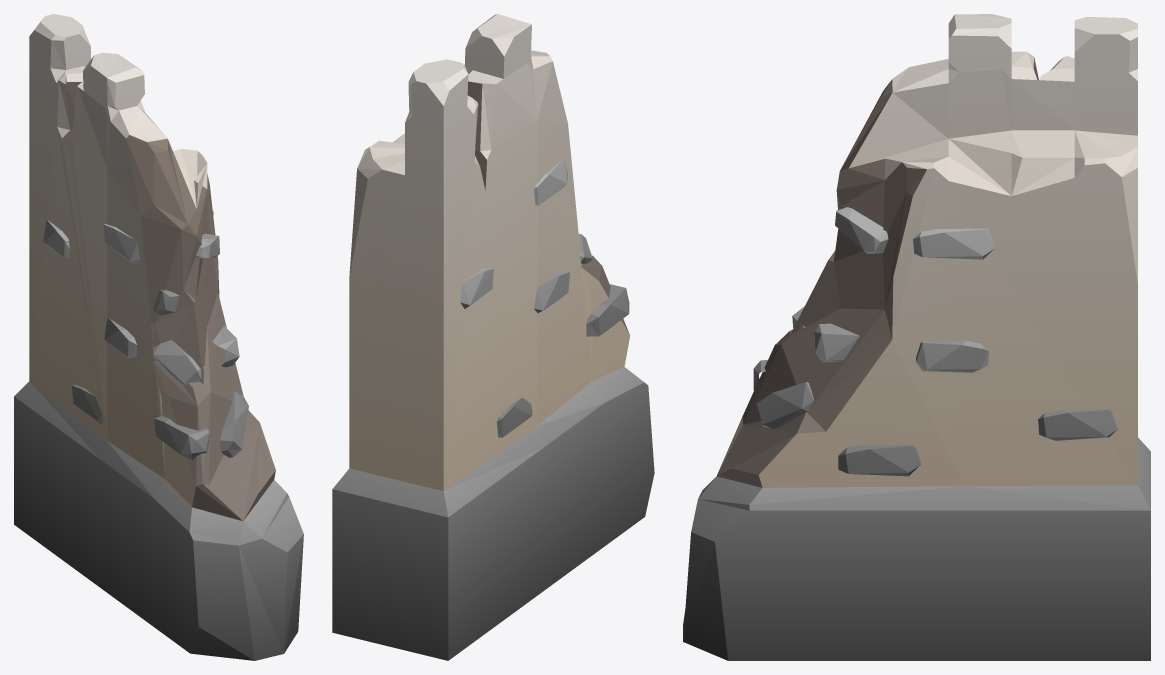
The model's file is damagedfortwall3.glb.
The picture shows the model from 3 angles, left to right: view 1: azimuth 30°, elevation 25°; view 2: azimuth 150°, elevation 25°; view 3: azimuth 270°, elevation 25°; orthographic projection. The views are drawn at different scales.
Visible parts, largest first — view 1: DamagedFortWall3_mesh1; view 2: DamagedFortWall3_mesh1; view 3: DamagedFortWall3_mesh1.
Boxes of the visible parts, x1,y1,x2,y2 form: DamagedFortWall3_mesh1: (14,14,303,660); DamagedFortWall3_mesh1: (332,14,654,660); DamagedFortWall3_mesh1: (683,14,1150,660).
Bounding box in the file's own units: 1.65 × 7.75 × 5.52.
1 material, 1 textured.
